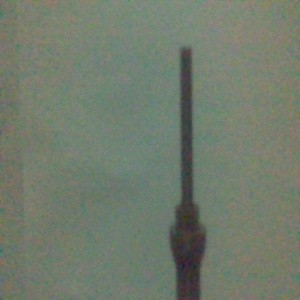obeng: (169, 47, 208, 300)
